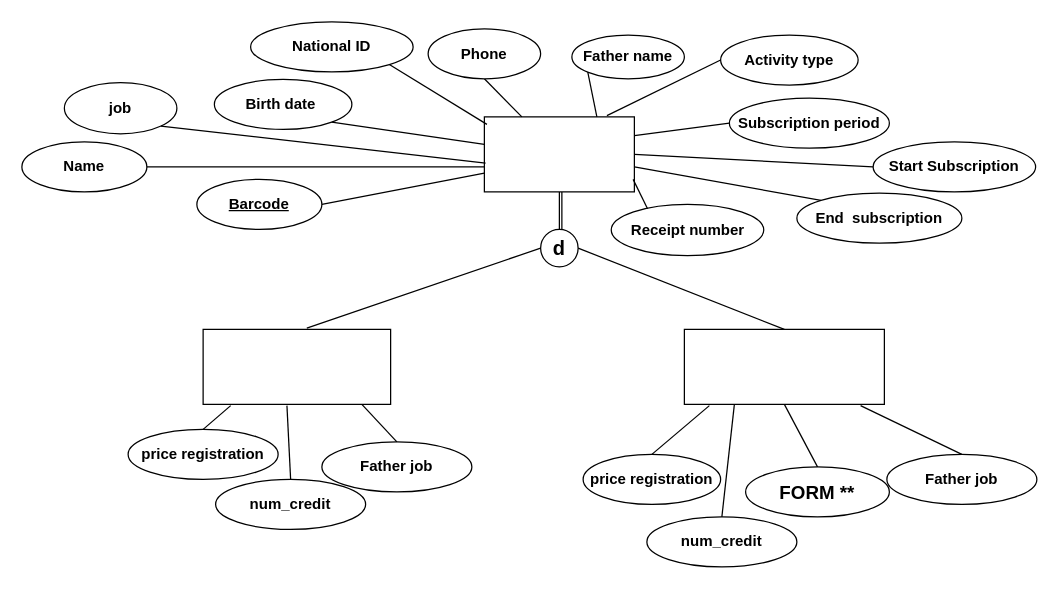
Some shapes in this 1059 by 589 pixel diagram are drawn without their labels. The centre of each missing label's shape, as x and y in pixels:
"Customer" belongs at (x=558, y=154).
"From University" belongs at (x=783, y=366).
"Out University" belongs at (x=296, y=366).
